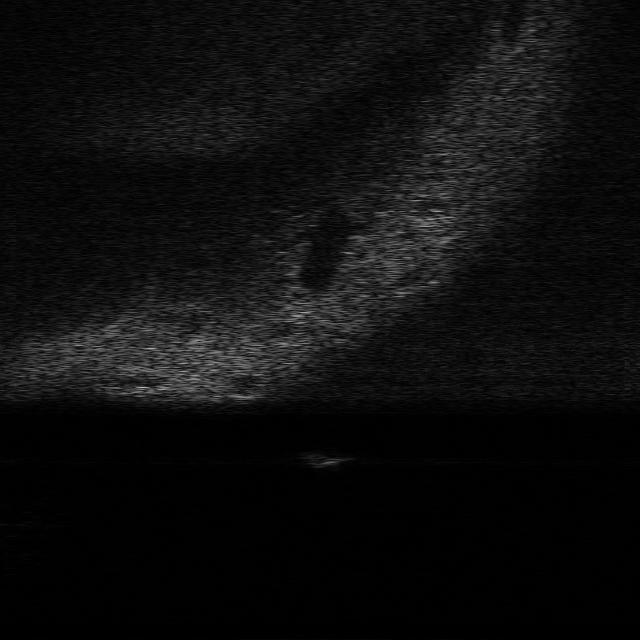cube: (296, 449, 356, 469)
